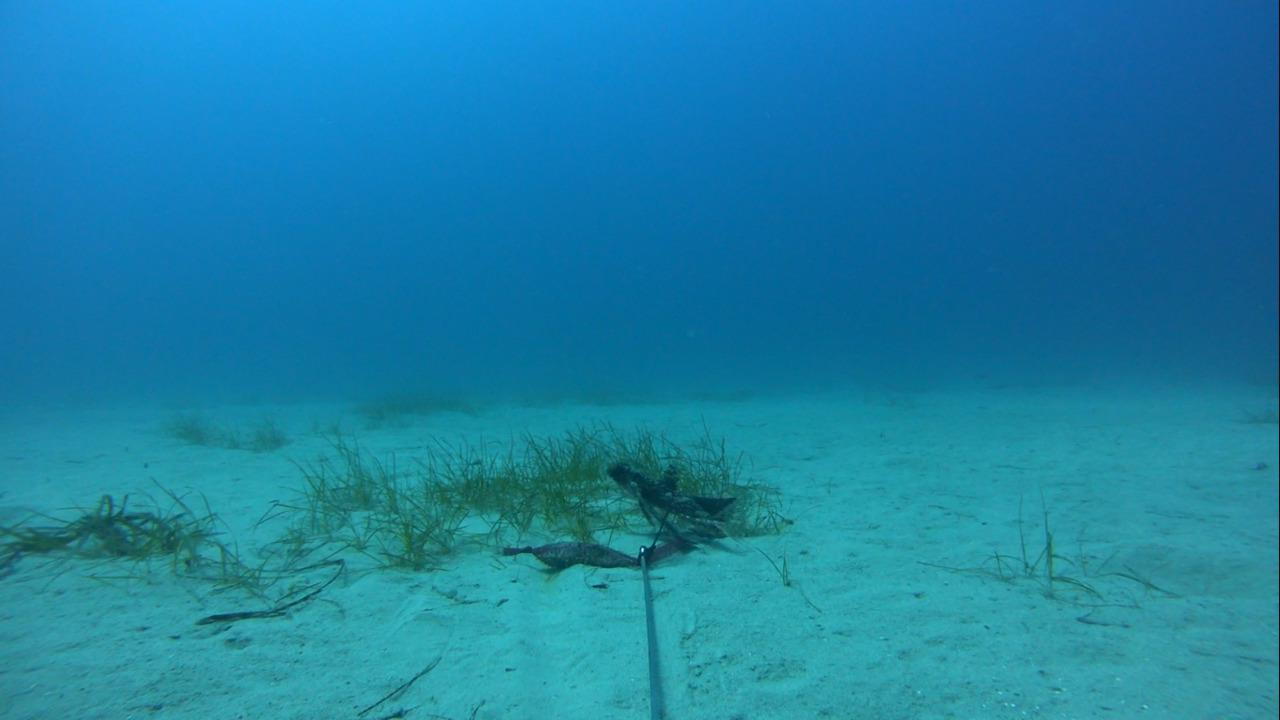dactylopterus: (599, 453, 736, 551)
